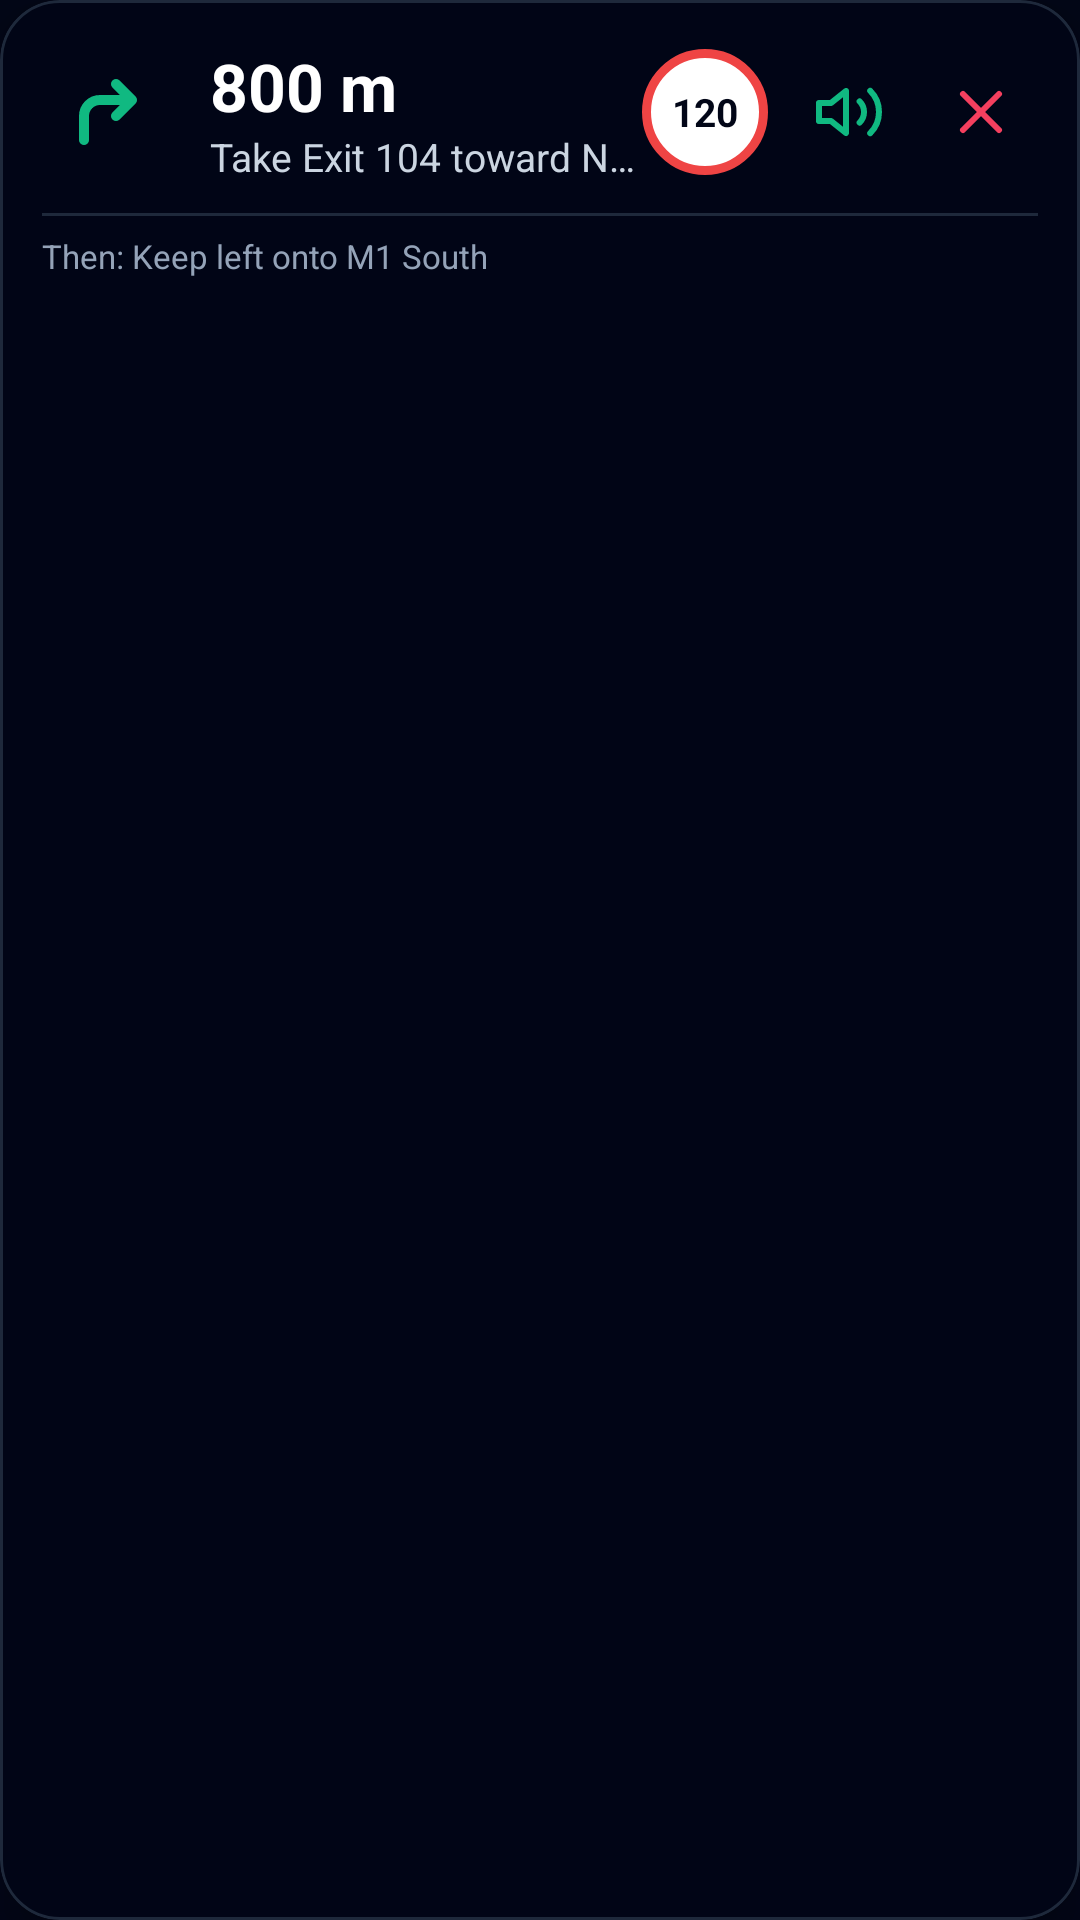

Icon bounding boxes for this 1080x1920 phone screenshot, format (x1,y1,x2,y2):
close: (960,91,1002,133)
turn right: (79,79,137,145)
volume up: (816,87,882,137)
